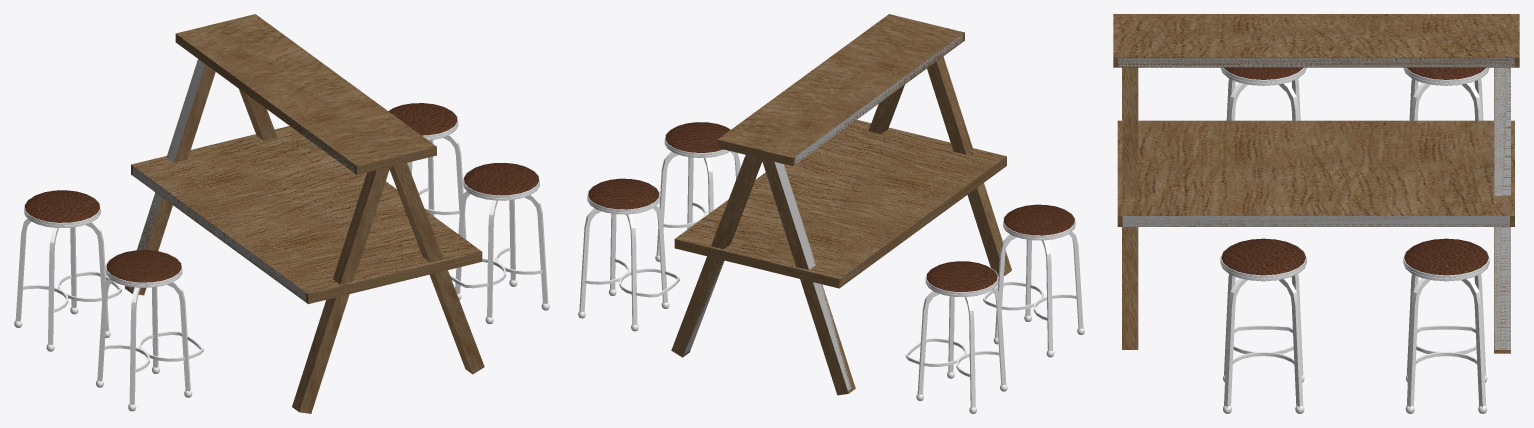
The picture shows the model from 3 angles, left to right: view 1: azimuth 30°, elevation 25°; view 2: azimuth 150°, elevation 25°; view 3: azimuth 270°, elevation 25°; orthographic projection. The views are drawn at different scales.
Visible parts, largest first — view 1: pCube10, pCube7, pasted__pCylinder25 (×4), pCube3, pCube2, pasted__polySurface192 (×4), pCube8, pasted__polySurface193 (×3), pasted__polySurface195 (×3), pCube6, pasted__polySurface191 (×3), pCube4 (+2 smaller); view 2: pCube10, pCube7, pasted__pCylinder25 (×4), pCube3, pCube9, pCube8, pasted__polySurface193 (×4), pasted__polySurface192 (×3), pasted__polySurface195 (×3), pCube4, pasted__polySurface194 (×3), pCube1 (+2 smaller); view 3: pCube10, pCube7, pasted__pCylinder25 (×4), pCube2, pCube5, pCube6, pCube1, pasted__polySurface191 (×4), pasted__polySurface192 (×2), pasted__polySurface193 (×2), pCube9.
Boxes of the visible parts, x1=… form: pCube10: x1=131, y1=126, x2=482, y2=304; pCube7: x1=175, y1=14, x2=436, y2=174; pasted__pCylinder25 (×4): x1=25, y1=103, x2=538, y2=282; pCube3: x1=292, y1=167, x2=390, y2=413; pCube2: x1=389, y1=163, x2=484, y2=374; pasted__polySurface192 (×4): x1=14, y1=134, x2=549, y2=387; pCube8: x1=124, y1=64, x2=215, y2=295; pasted__polySurface193 (×3): x1=46, y1=199, x2=517, y2=411; pasted__polySurface195 (×3): x1=70, y1=200, x2=497, y2=373; pCube6: x1=133, y1=166, x2=305, y2=301; pasted__polySurface191 (×3): x1=24, y1=167, x2=539, y2=287; pCube4: x1=129, y1=59, x2=205, y2=290; pCube10: x1=674, y1=120, x2=1006, y2=288; pCube7: x1=717, y1=14, x2=964, y2=166; pasted__pCylinder25 (×4): x1=588, y1=122, x2=1074, y2=291; pCube3: x1=927, y1=56, x2=1011, y2=276; pCube9: x1=671, y1=155, x2=762, y2=357; pCube8: x1=761, y1=159, x2=855, y2=395; pasted__polySurface193 (×4): x1=578, y1=151, x2=1084, y2=391; pasted__polySurface192 (×3): x1=608, y1=213, x2=1054, y2=413; pasted__polySurface195 (×3): x1=653, y1=205, x2=1016, y2=400; pCube4: x1=774, y1=162, x2=851, y2=390; pasted__polySurface194 (×3): x1=626, y1=214, x2=1031, y2=378; pCube1: x1=795, y1=34, x2=962, y2=164; pCube10: x1=1117, y1=120, x2=1514, y2=226; pCube7: x1=1113, y1=14, x2=1519, y2=67; pasted__pCylinder25 (×4): x1=1221, y1=67, x2=1488, y2=275; pCube2: x1=1122, y1=67, x2=1138, y2=349; pCube5: x1=1494, y1=67, x2=1510, y2=349; pCube6: x1=1122, y1=216, x2=1509, y2=226; pCube1: x1=1118, y1=58, x2=1514, y2=67; pasted__polySurface191 (×4): x1=1220, y1=67, x2=1489, y2=281; pasted__polySurface192 (×2): x1=1223, y1=278, x2=1430, y2=413; pasted__polySurface193 (×2): x1=1279, y1=278, x2=1487, y2=413; pCube9: x1=1494, y1=67, x2=1510, y2=353.
Size of what is drawn, in the model's own units: 3.61 by 1.97 by 2.67.
4 materials, 2 textured.
